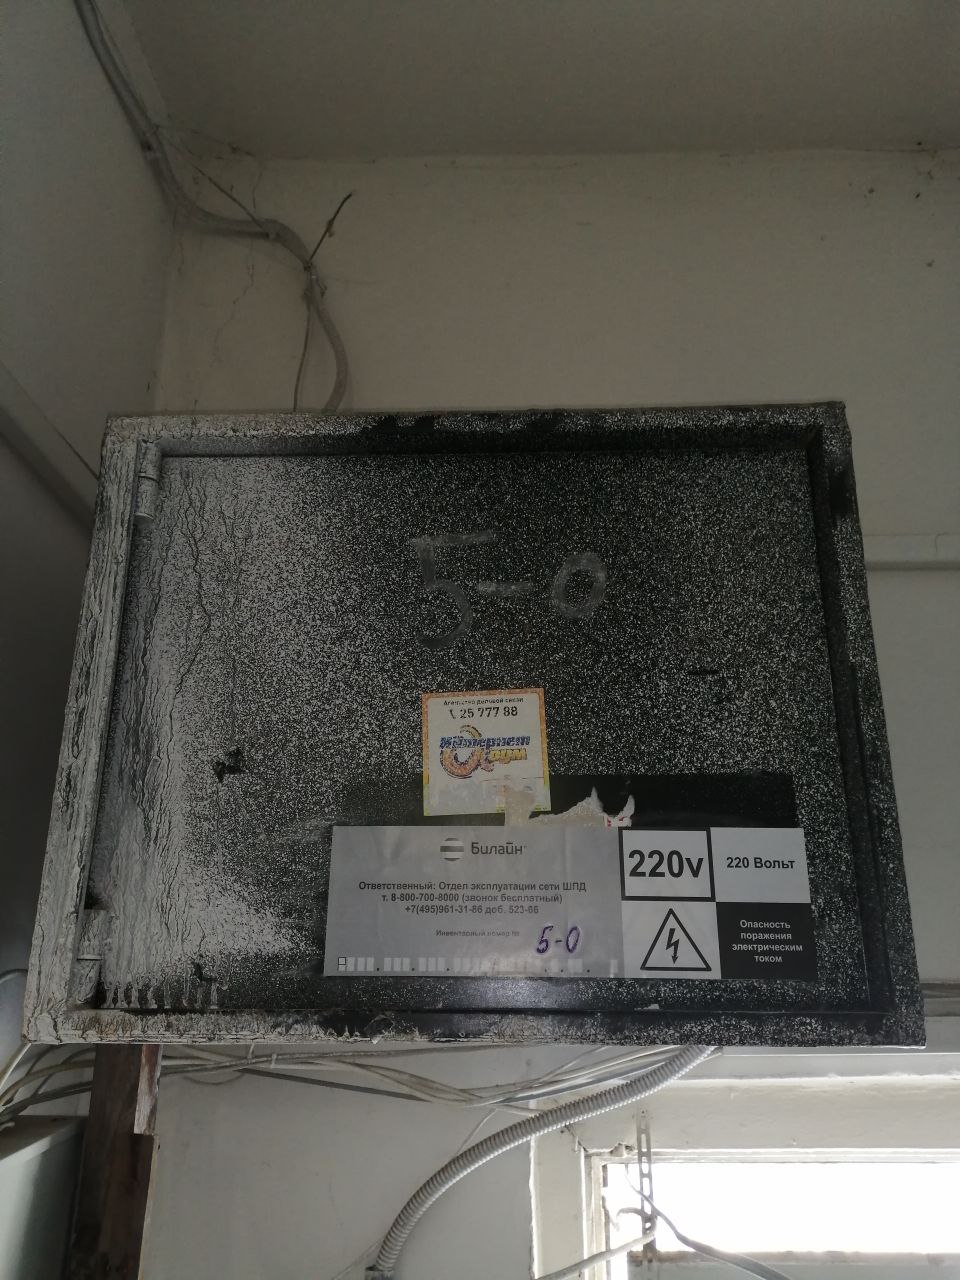shta-9m: (12, 387, 941, 1062)
